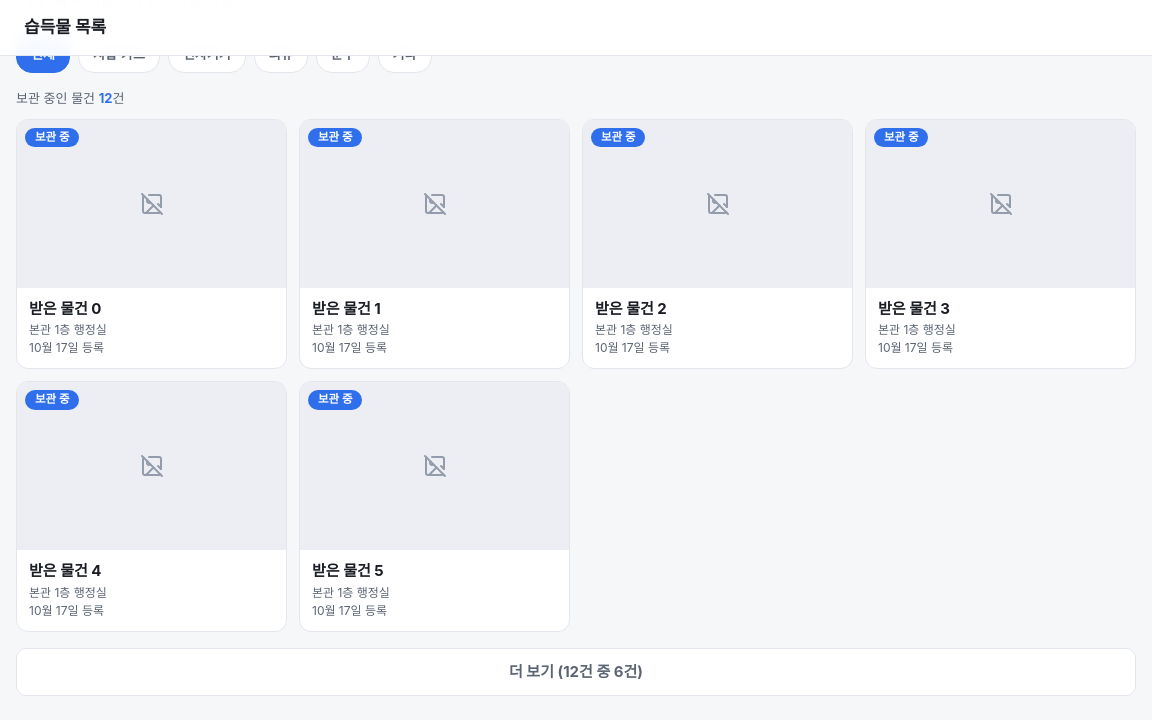
Test: FoundListPage › [더 보기]가 실패해도 이미 받은 목록은 그대로 두고 토스트로 알린다
(page scrolled)
Click the button "더 보기 (12건 중 6건)".
click(576, 672)  # box left=16, top=648, right=1136, bottom=696
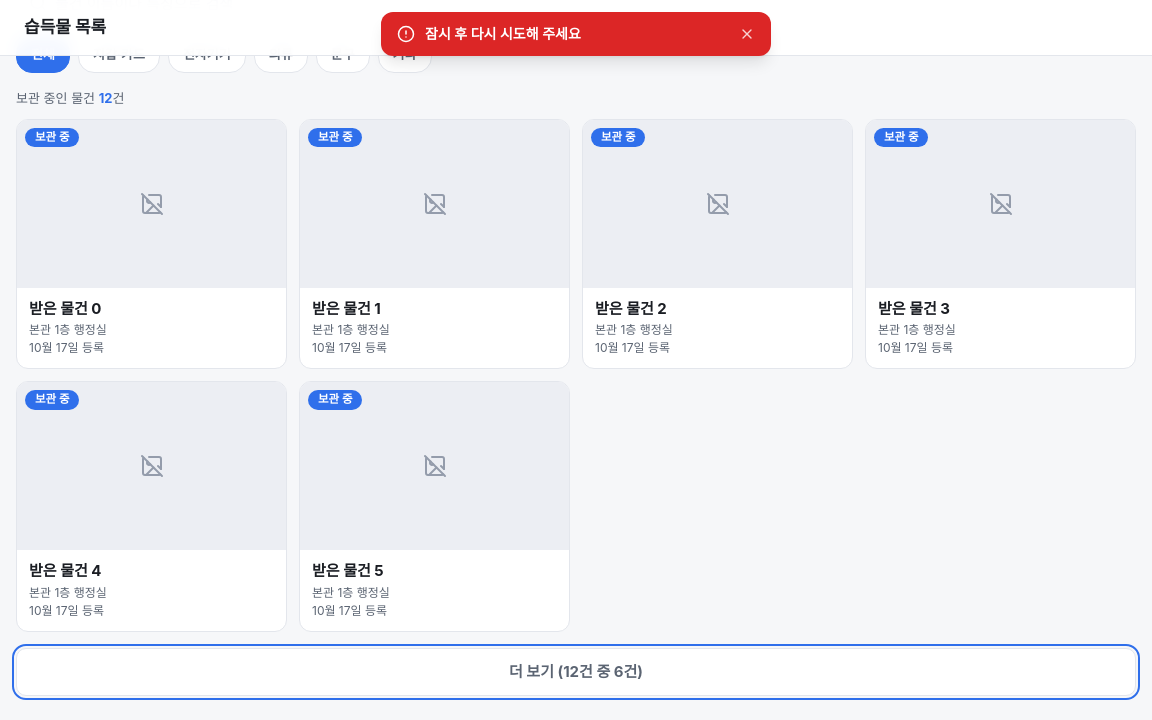
Expected: the text "받은 물건 0" is shown, left=29, top=299, right=101, bottom=318
Now the message reads "잠시 후 다시 시도해 주세요", box left=425, top=25, right=581, bottom=42
